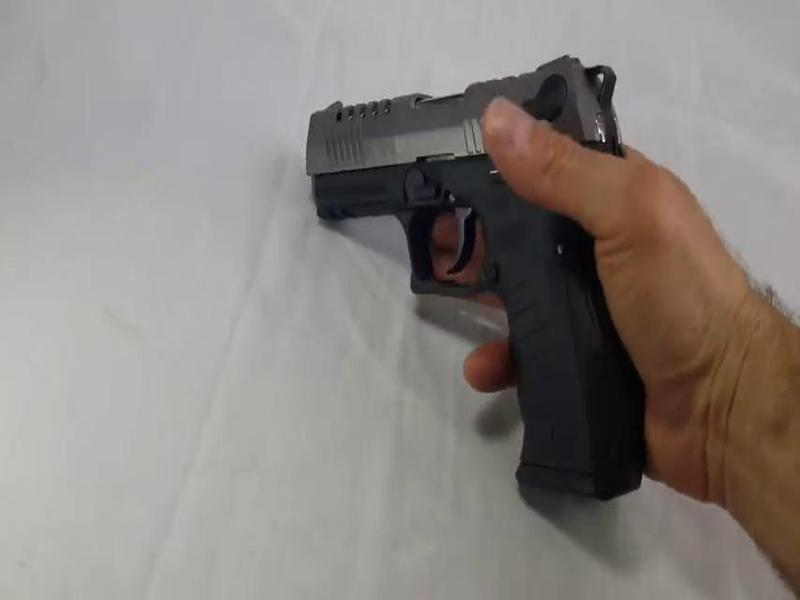Pistola: (217, 55, 660, 514)
